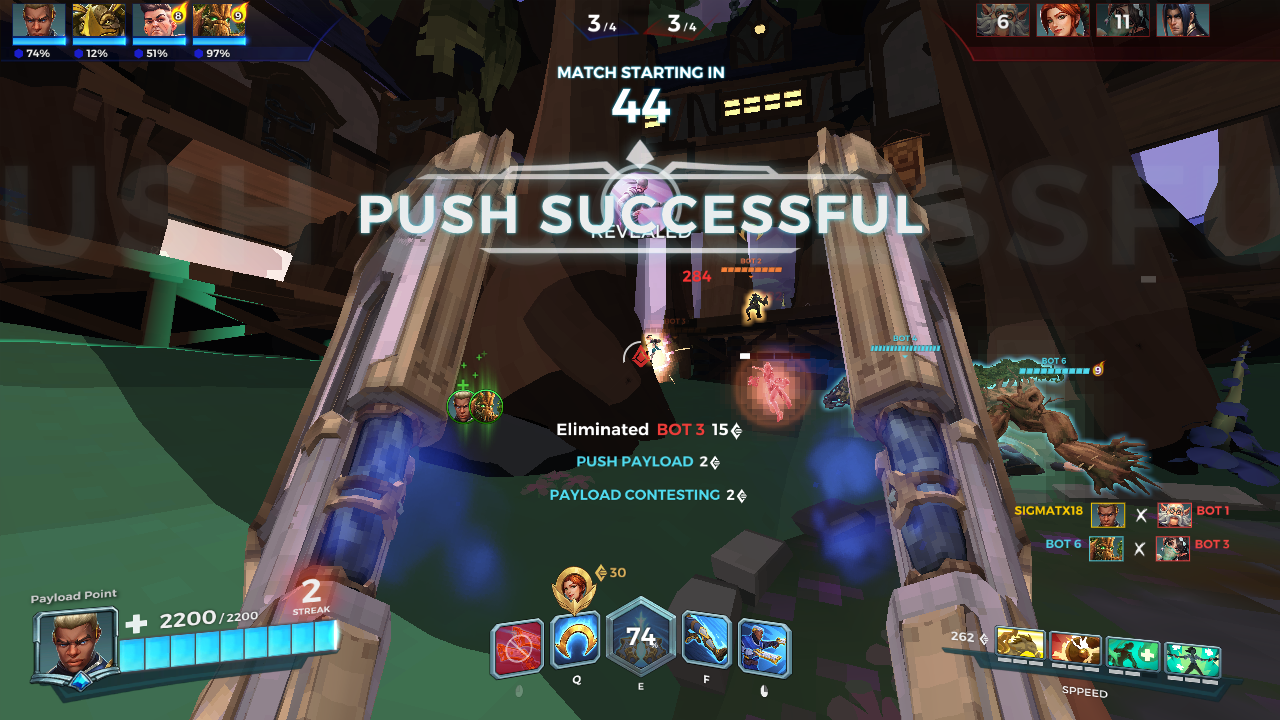model: (743, 281, 768, 325)
